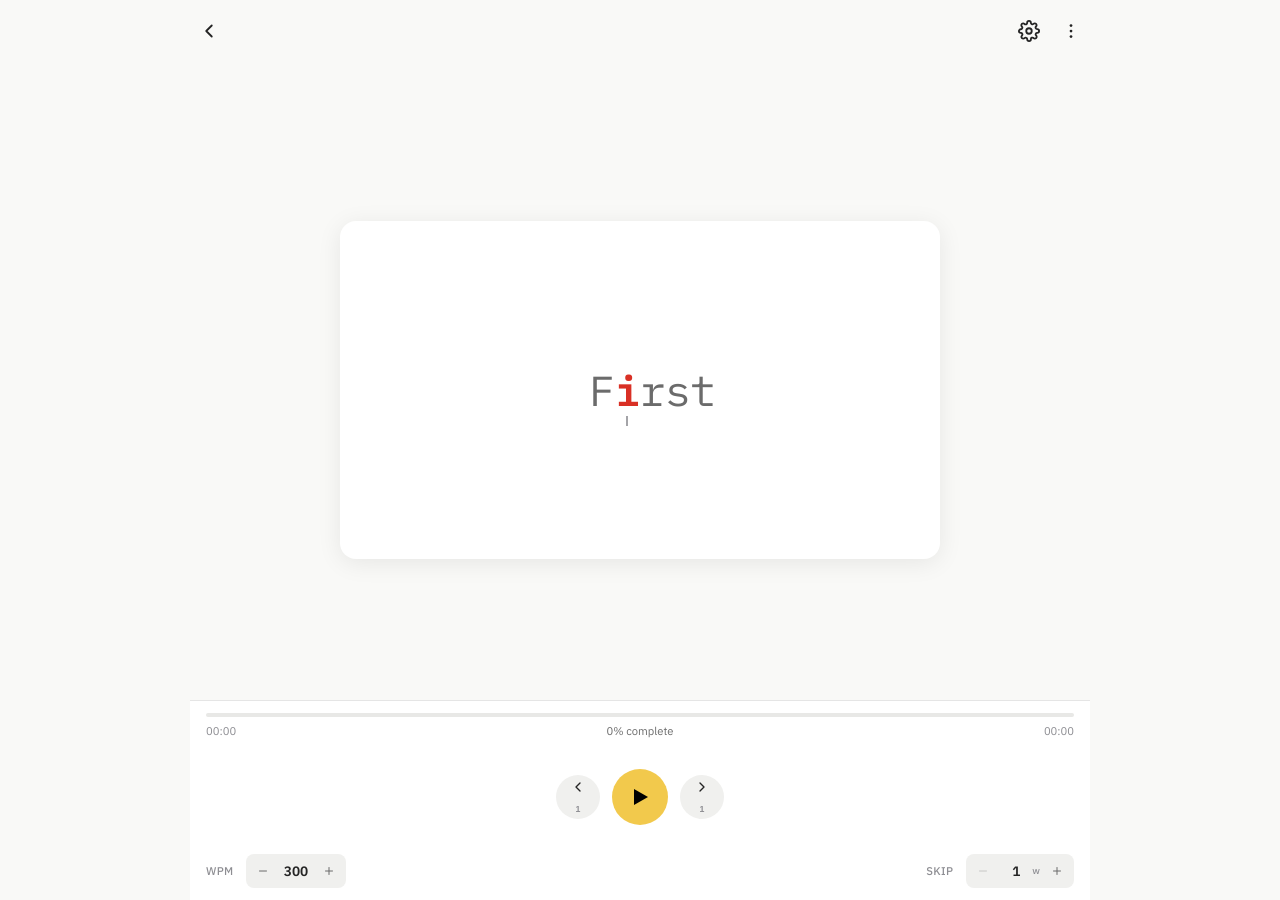
Test: RSVPPlayer › word navigation › goes back with skip back button
// Go forward first
Click the button named "Skip forward" at (702, 797), box [680,775,724,819]
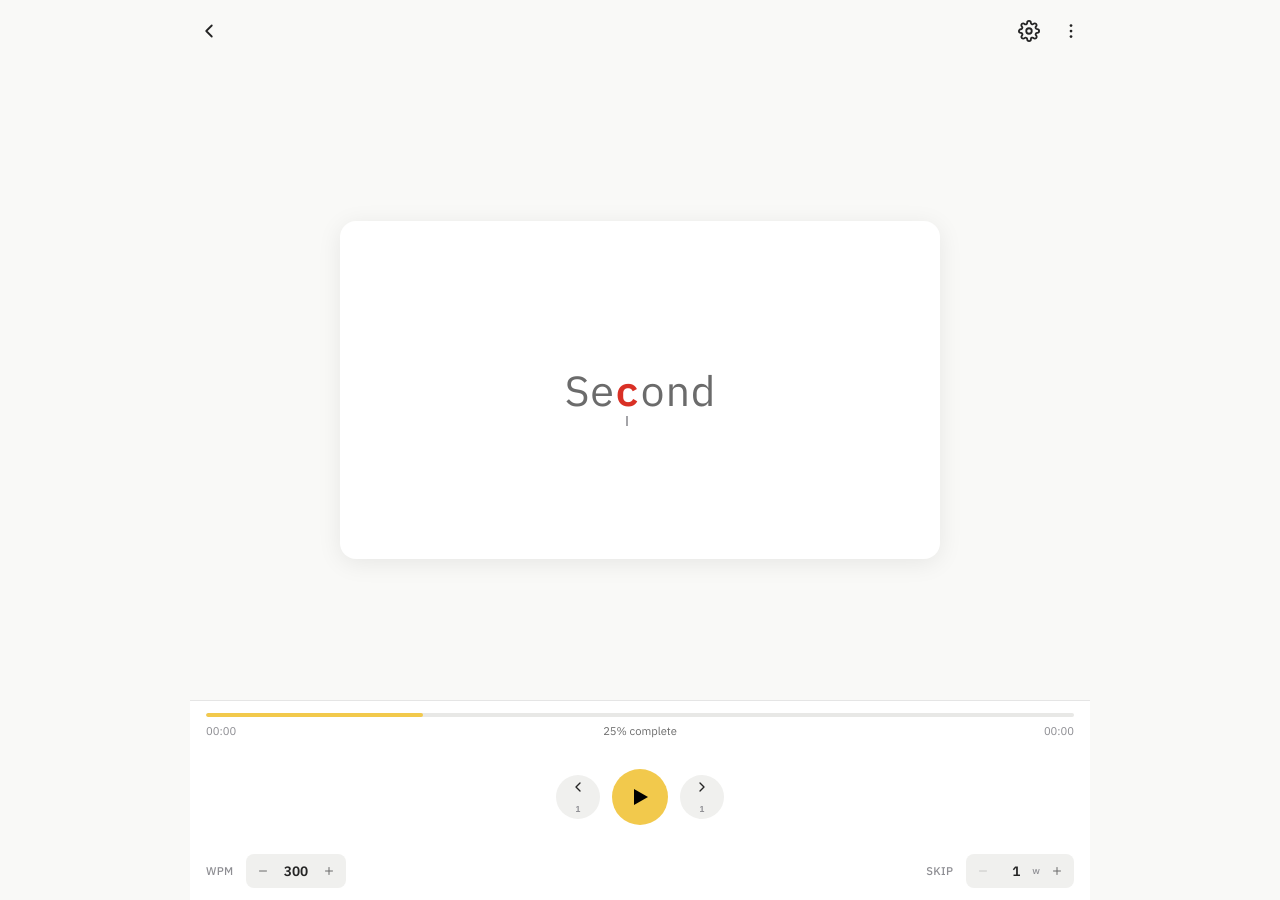
Expected: the element named "Current word: Second" is shown, [363,368,917,412]
// Then skip back
Click the button named "Skip back" at (578, 797), box [556,775,600,819]
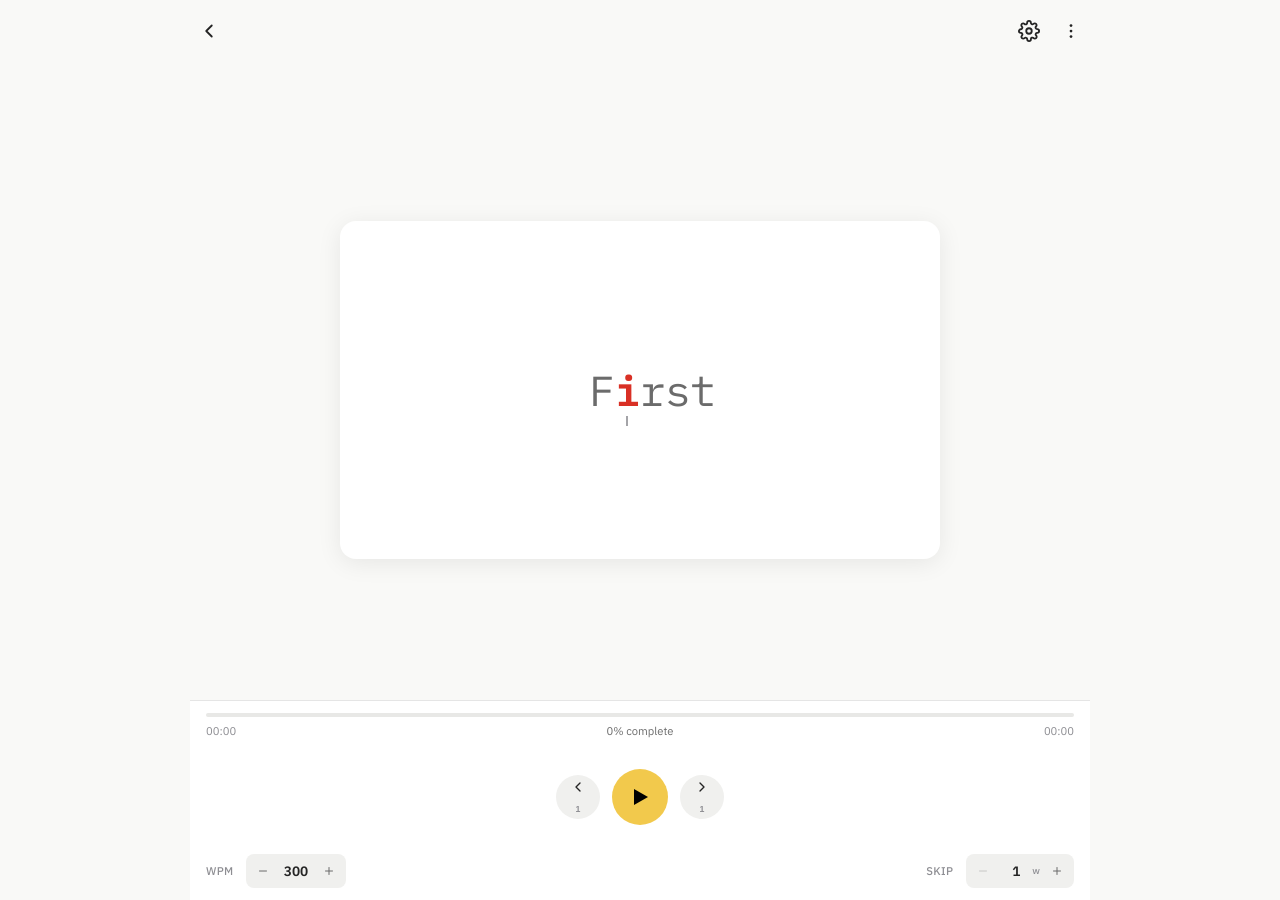
Expected: the element named "Current word: First" is shown, [363,368,917,412]
